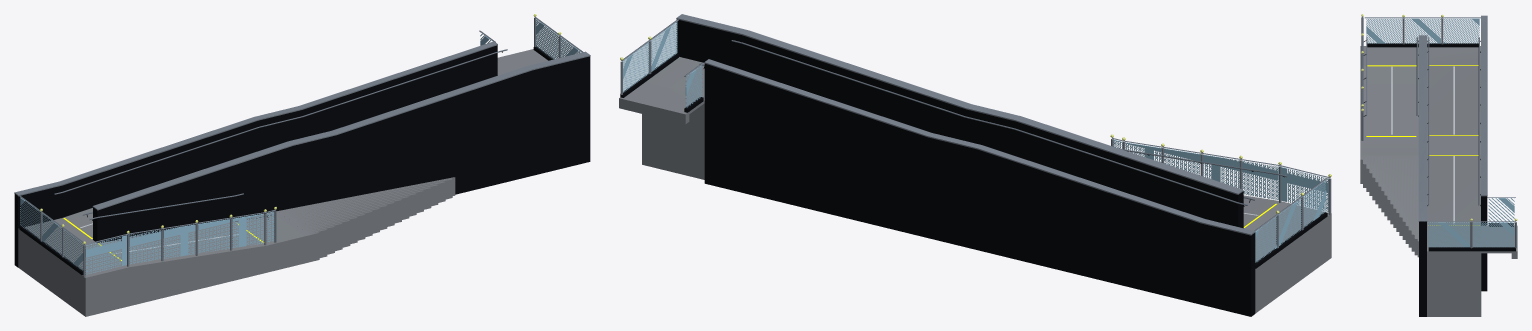
File: tt_struct_ramp_nw.glb
3 renders of one model, left to right at view 1: azimuth 30°, elevation 25°; view 2: azimuth 150°, elevation 25°; view 3: azimuth 270°, elevation 25°, orthographic. The views are drawn at different scales.
Parts seen in each view (by area): view 1: Ramp_Walls, Ramp_Deck, Guard_Pane_Scissor, Wall_Caps, Handrail, Guard_Posts, Guard_Rail, Guard_Kerb; view 2: Ramp_Walls, Ramp_Deck, Guard_Pane_Scissor, Wall_Caps, Handrail, Guard_Kerb, Guard_Posts, Guard_Rail; view 3: Ramp_Deck, Guard_Pane_Scissor, Wall_Caps, Ramp_Walls, Guard_Kerb, Handrail, Guard_Rail, Guard_Posts, Court_Lines, Court_Line_Amber.
Part boxes in pixels (<box>): Ramp_Walls: <box>14,45,590,267</box>; Ramp_Deck: <box>18,49,547,316</box>; Guard_Pane_Scissor: <box>20,19,581,274</box>; Wall_Caps: <box>14,41,590,210</box>; Handrail: <box>54,49,507,240</box>; Guard_Posts: <box>40,18,560,277</box>; Guard_Rail: <box>19,17,583,244</box>; Guard_Kerb: <box>19,46,553,275</box>; Ramp_Walls: <box>676,20,1255,316</box>; Ramp_Deck: <box>619,57,1331,313</box>; Guard_Pane_Scissor: <box>622,21,1328,262</box>; Wall_Caps: <box>676,14,1255,235</box>; Handrail: <box>699,40,1286,205</box>; Guard_Kerb: <box>620,53,1327,268</box>; Guard_Posts: <box>620,41,1331,248</box>; Guard_Rail: <box>621,19,1330,231</box>; Ramp_Deck: <box>1360,46,1517,316</box>; Guard_Pane_Scissor: <box>1362,18,1514,247</box>; Wall_Caps: <box>1418,15,1487,221</box>; Ramp_Walls: <box>1419,196,1487,316</box>; Guard_Kerb: <box>1367,43,1515,251</box>; Handrail: <box>1366,37,1479,205</box>; Guard_Rail: <box>1361,17,1515,221</box>; Guard_Posts: <box>1361,18,1516,248</box>; Court_Lines: <box>1391,66,1454,224</box>; Court_Line_Amber: <box>1366,65,1479,225</box>.
Size of what is drawn, in the model's own units: 18.46 by 3.56 by 5.2.
9 materials, 6 textured.
